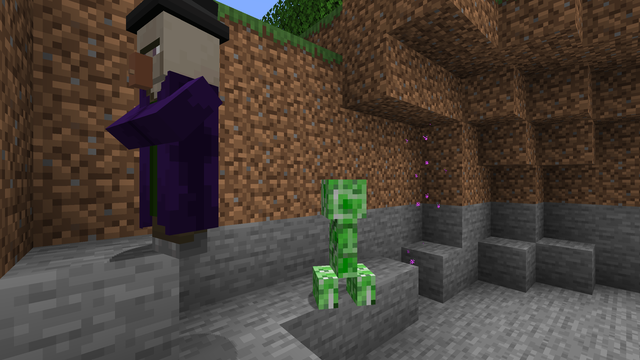creepers: (311, 173, 373, 313)
sorcieres: (133, 1, 225, 267)
